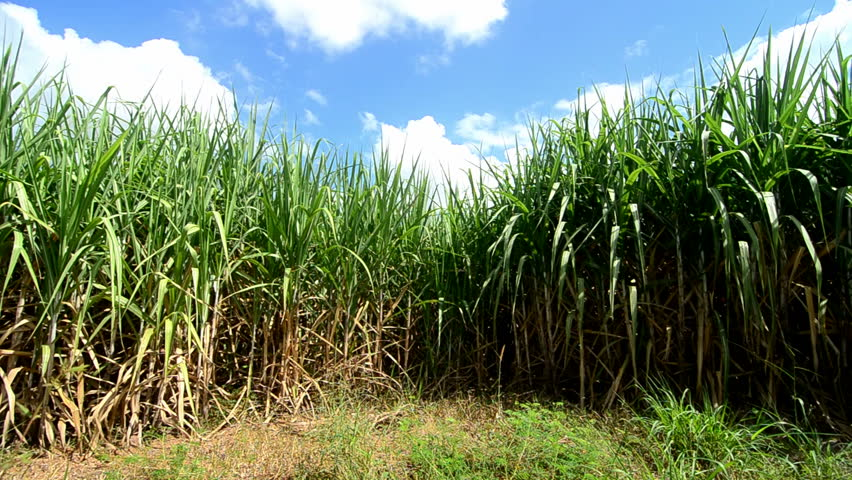sugarcane: (11, 139, 429, 443), (484, 75, 850, 369)
